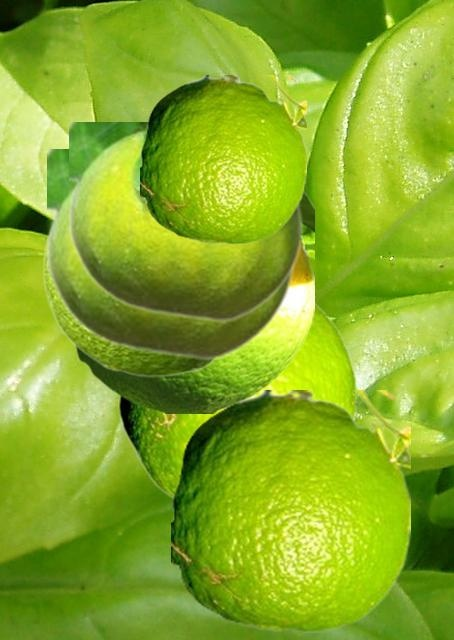dalandan: (171, 390, 409, 631), (72, 187, 313, 412), (47, 149, 294, 360), (118, 298, 356, 501), (69, 122, 303, 322), (140, 75, 305, 243), (42, 218, 216, 376)
